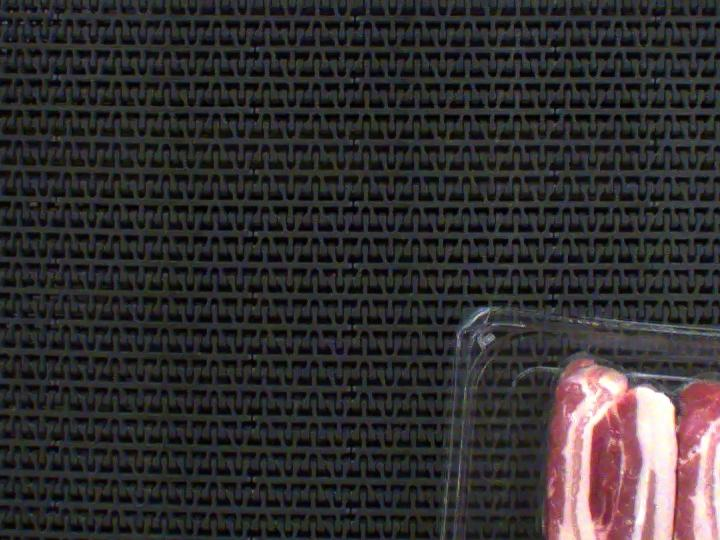unsealed: (555, 350, 720, 455)
